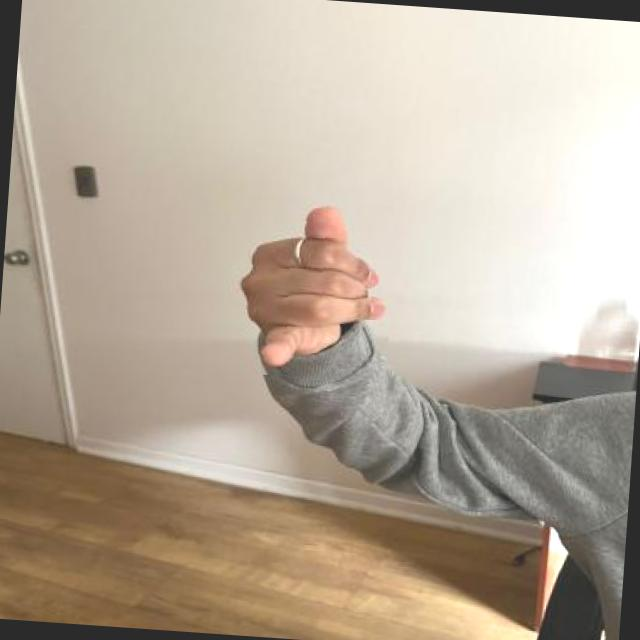Z: (229, 195, 397, 384)
